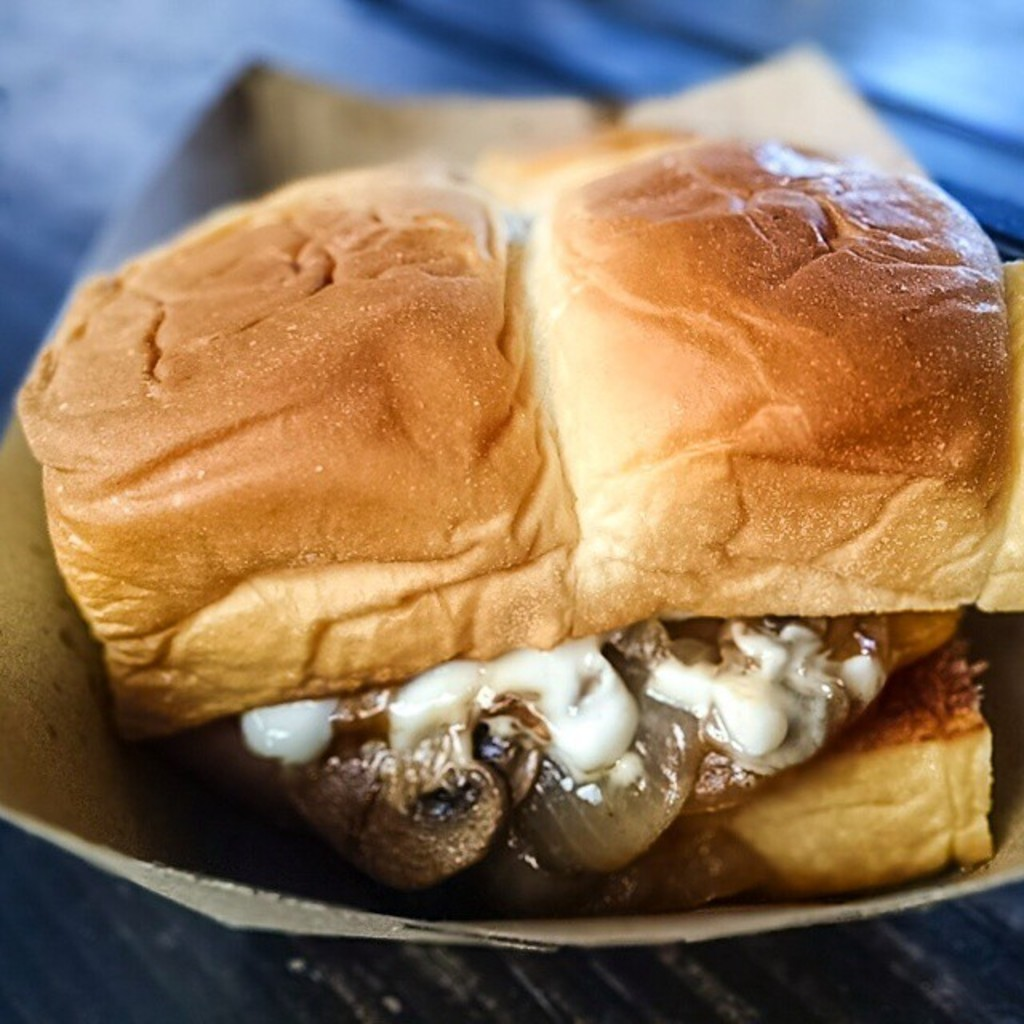Hamburger: (6, 126, 1022, 920)
